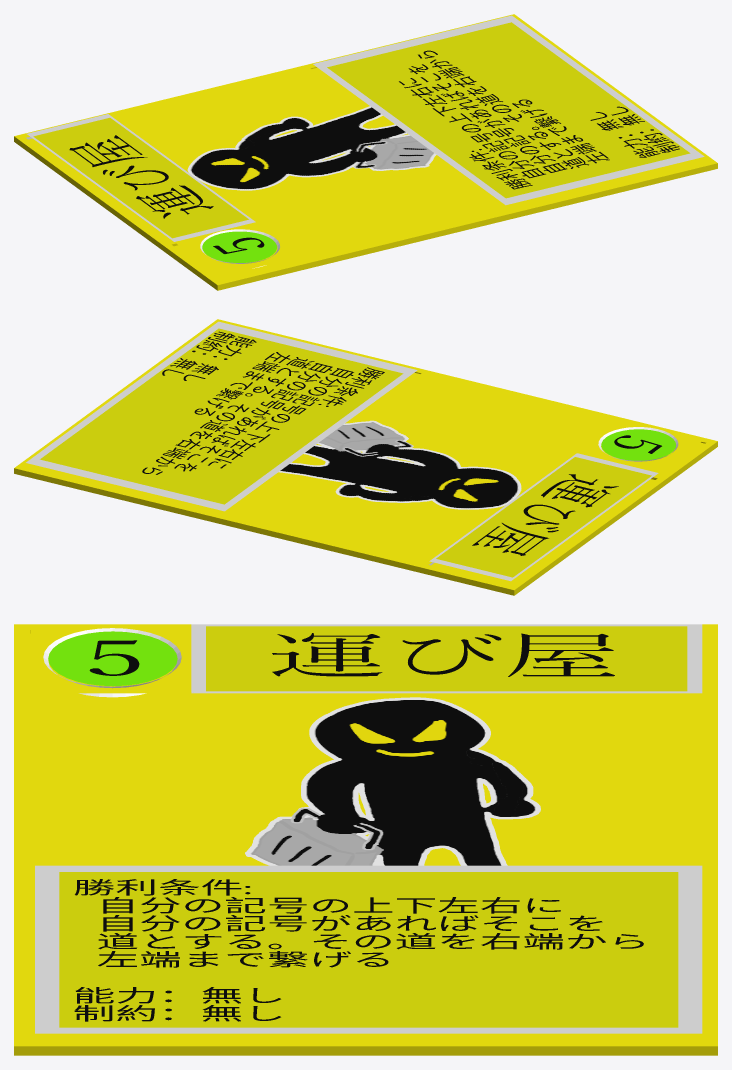
Rendered from 運び屋黄.fbx.
The picture shows the model from 3 angles, top to bottom: view 1: azimuth 30°, elevation 25°; view 2: azimuth 150°, elevation 25°; view 3: azimuth 270°, elevation 25°; orthographic projection. The views are drawn at different scales.
Parts seen in each view (by area): view 1: カード本体.001, 説明欄, 平面.001, 名前欄, 説明文, 円, 平面, 名前; view 2: カード本体.001, 説明欄, 平面.001, 名前欄, 説明文, 円, 平面, 名前; view 3: カード本体.001, 説明欄, 平面.001, 名前欄, 説明文, 平面, 円, 名前, コスト蘭.
Part boxes in pixels (bbox=[...]): カード本体.001: bbox=[14, 14, 717, 290]; 説明欄: bbox=[313, 15, 704, 205]; 平面.001: bbox=[187, 106, 436, 190]; 名前欄: bbox=[27, 114, 255, 241]; 説明文: bbox=[399, 50, 679, 189]; 円: bbox=[202, 231, 276, 262]; 平面: bbox=[174, 222, 302, 275]; 名前: bbox=[69, 135, 213, 218]; カード本体.001: bbox=[14, 319, 717, 595]; 説明欄: bbox=[26, 321, 417, 511]; 平面.001: bbox=[278, 420, 521, 509]; 名前欄: bbox=[429, 453, 658, 581]; 説明文: bbox=[142, 331, 384, 474]; 円: bbox=[601, 429, 675, 460]; 平面: bbox=[577, 419, 704, 472]; 名前: bbox=[472, 474, 618, 555]; カード本体.001: bbox=[14, 624, 717, 1055]; 説明欄: bbox=[35, 865, 702, 1033]; 平面.001: bbox=[245, 697, 540, 865]; 名前欄: bbox=[191, 624, 702, 693]; 説明文: bbox=[74, 879, 643, 1021]; 平面: bbox=[30, 624, 191, 693]; 円: bbox=[48, 631, 177, 686]; 名前: bbox=[272, 633, 614, 676]; コスト蘭: bbox=[43, 628, 181, 697].
Bounding box in the file's own units: 281 × 6.07 × 198.
